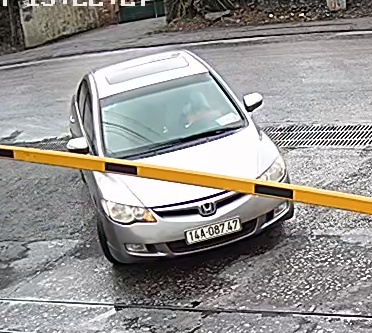vehicle plate: (184, 217, 242, 251)
